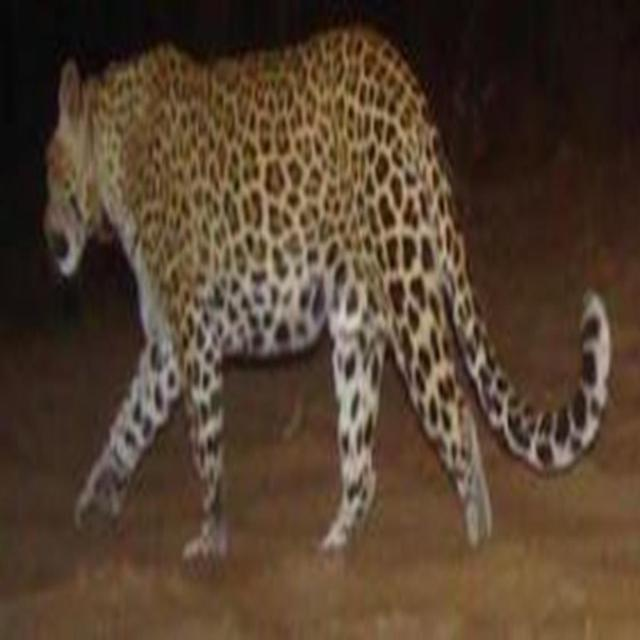Leopard: (48, 36, 613, 595)
